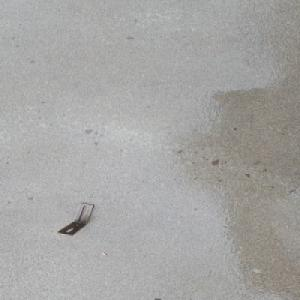MetalPart: (56, 202, 94, 235)
